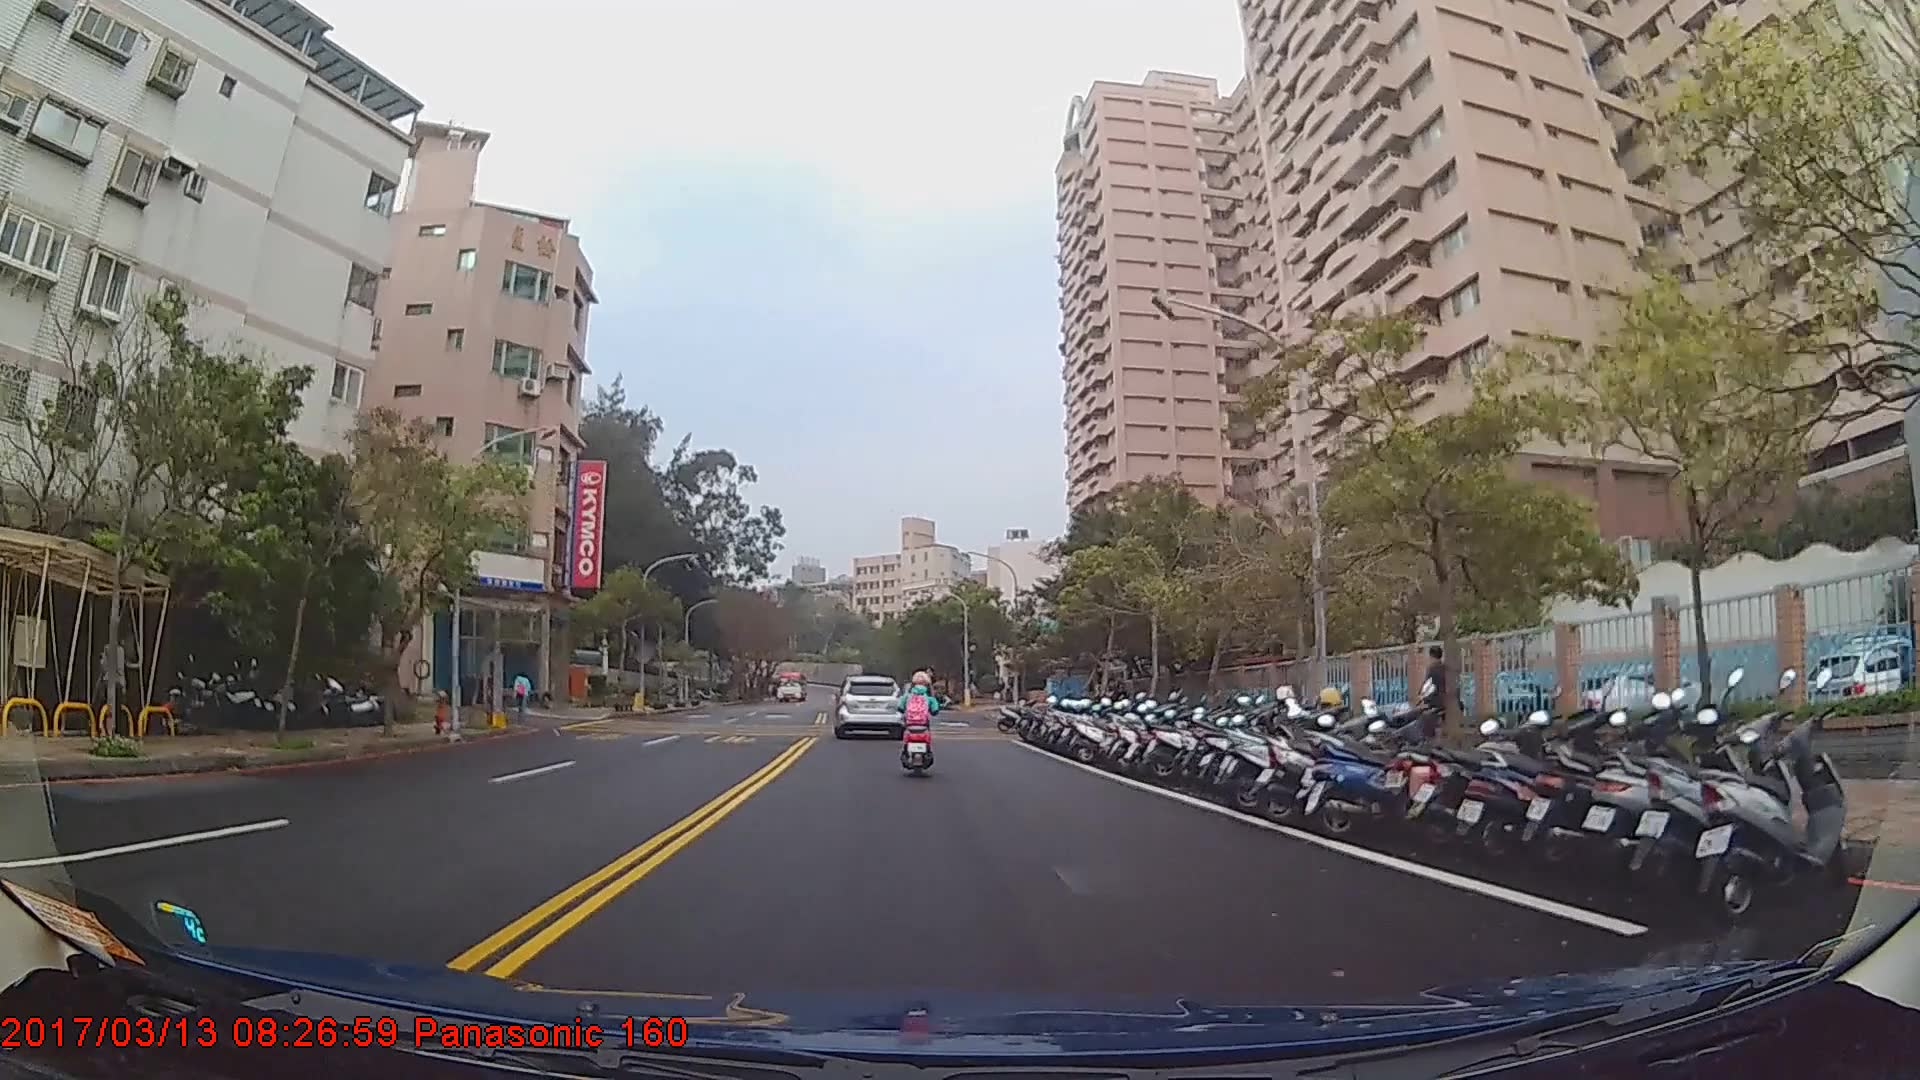pedestrian: (1423, 646, 1469, 766), (94, 627, 133, 750), (511, 665, 534, 721)
rider: (896, 672, 942, 784)
vehicle: (834, 673, 905, 737), (773, 668, 808, 704)
